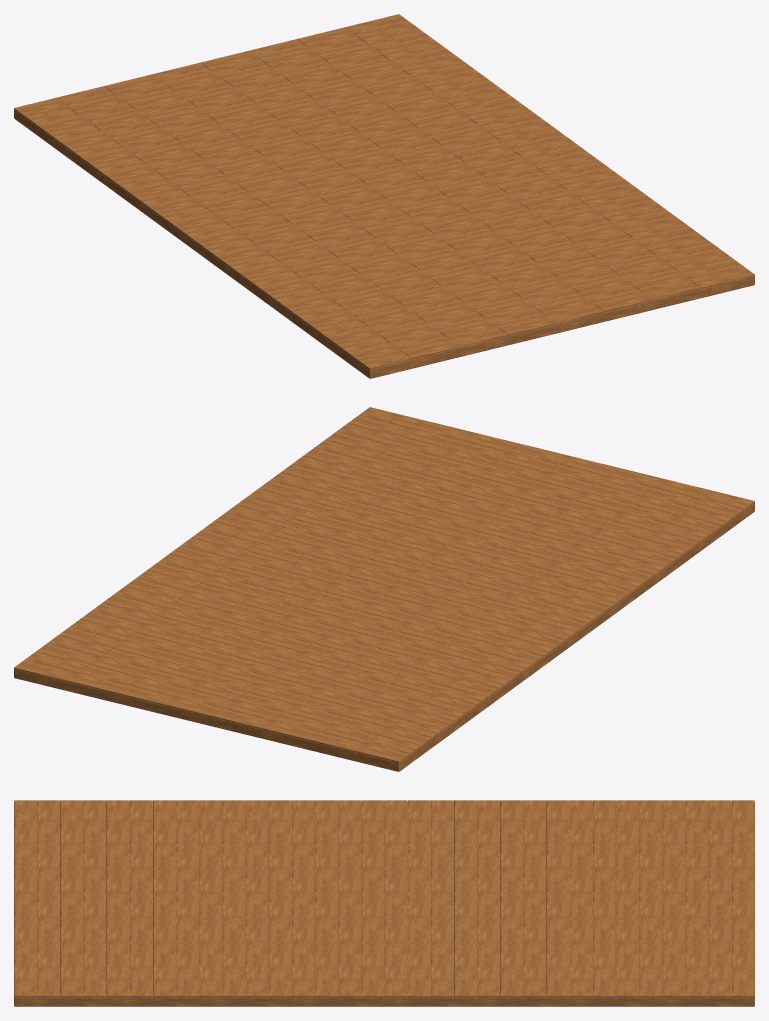
The model's file is WC_CAFE_Floor_Section_A.glb.
3 views of the same model, one above another, from view 1: azimuth 30°, elevation 25°; view 2: azimuth 150°, elevation 25°; view 3: azimuth 270°, elevation 25° (orthographic). The views are drawn at different scales.
Parts seen in each view (by area): view 1: WC_CAFE_Floor_Section_A_RenderMesh; view 2: WC_CAFE_Floor_Section_A_RenderMesh; view 3: WC_CAFE_Floor_Section_A_RenderMesh.
Boxes of the visible parts, x1=… form: WC_CAFE_Floor_Section_A_RenderMesh: x1=14, y1=14, x2=754, y2=378; WC_CAFE_Floor_Section_A_RenderMesh: x1=14, y1=407, x2=754, y2=771; WC_CAFE_Floor_Section_A_RenderMesh: x1=14, y1=800, x2=754, y2=1006.
Bounding box in the file's own units: 6.4 × 0.1725 × 10.24.
2 materials, 2 textured.
